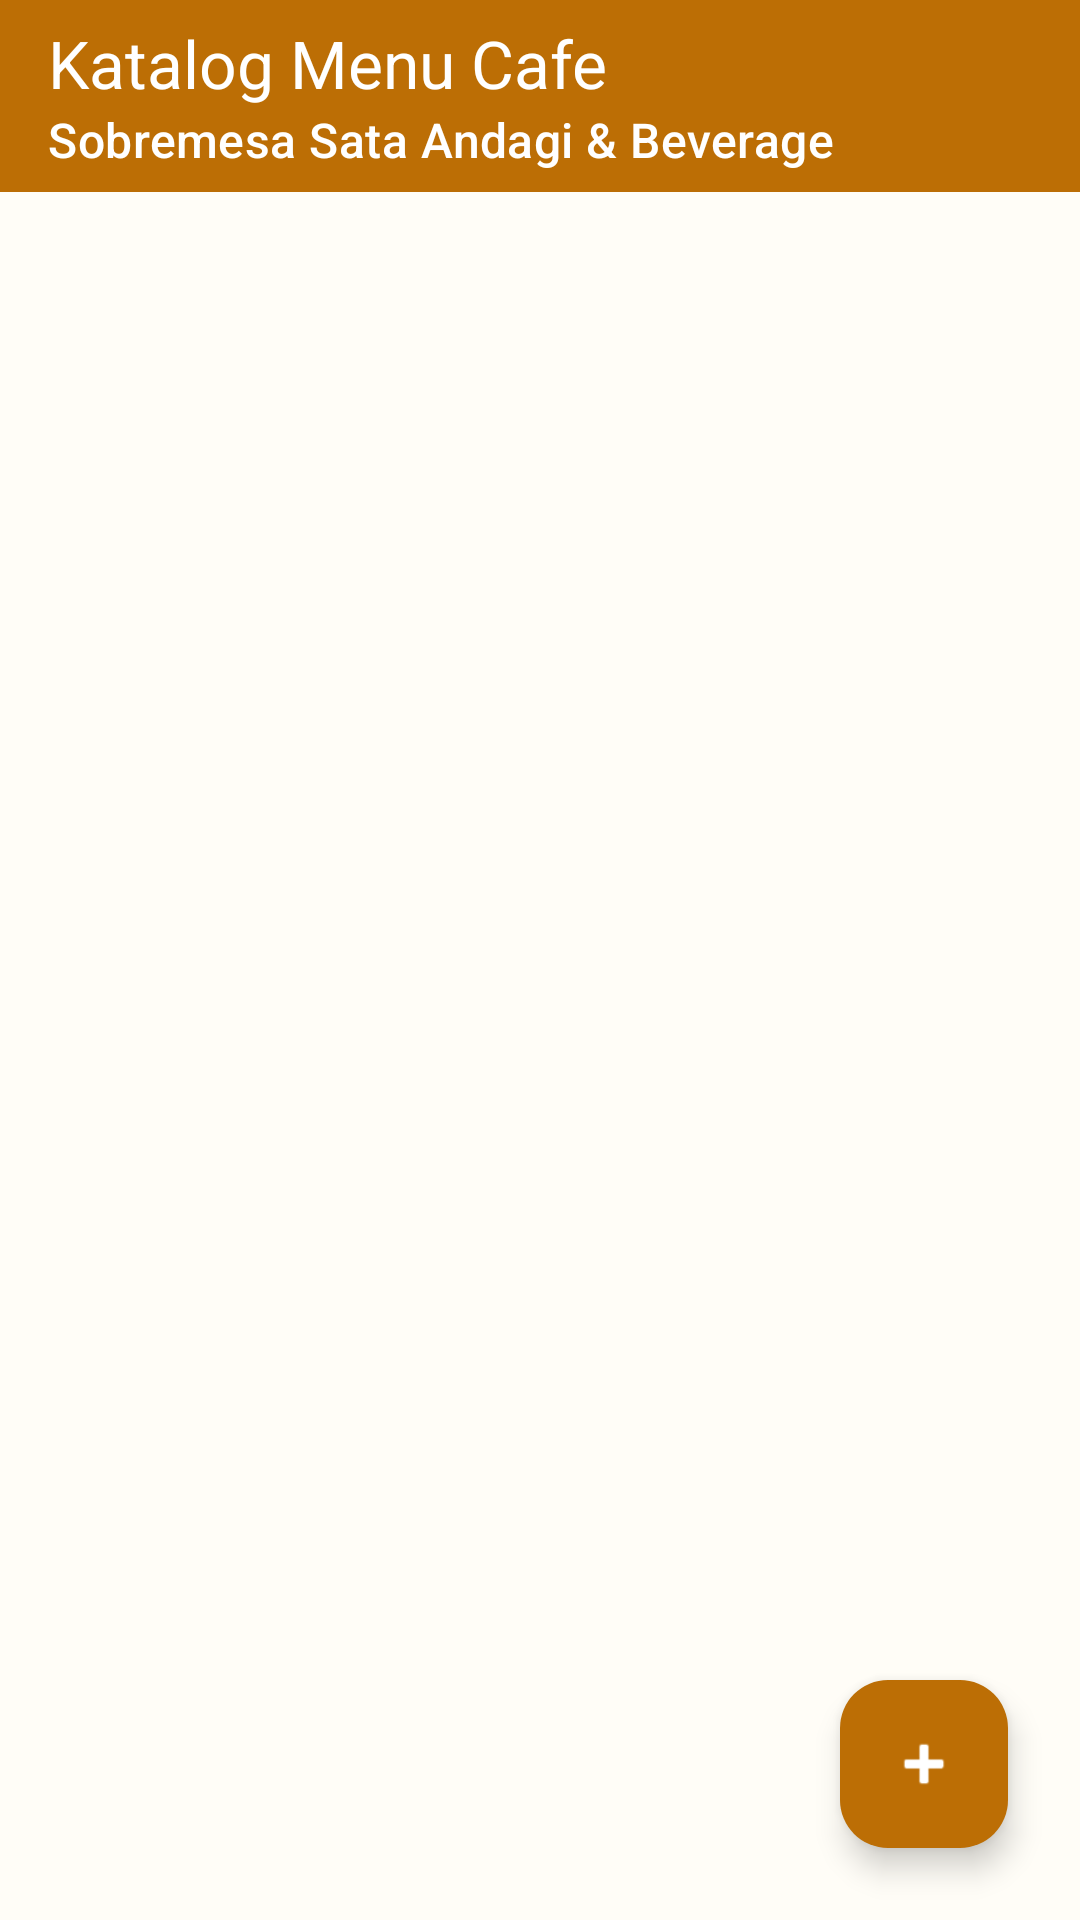

Point at icon controls on the screen. Image size 1080px x 1920px, points as (x,y).
Tambah Menu: (924,1764)
